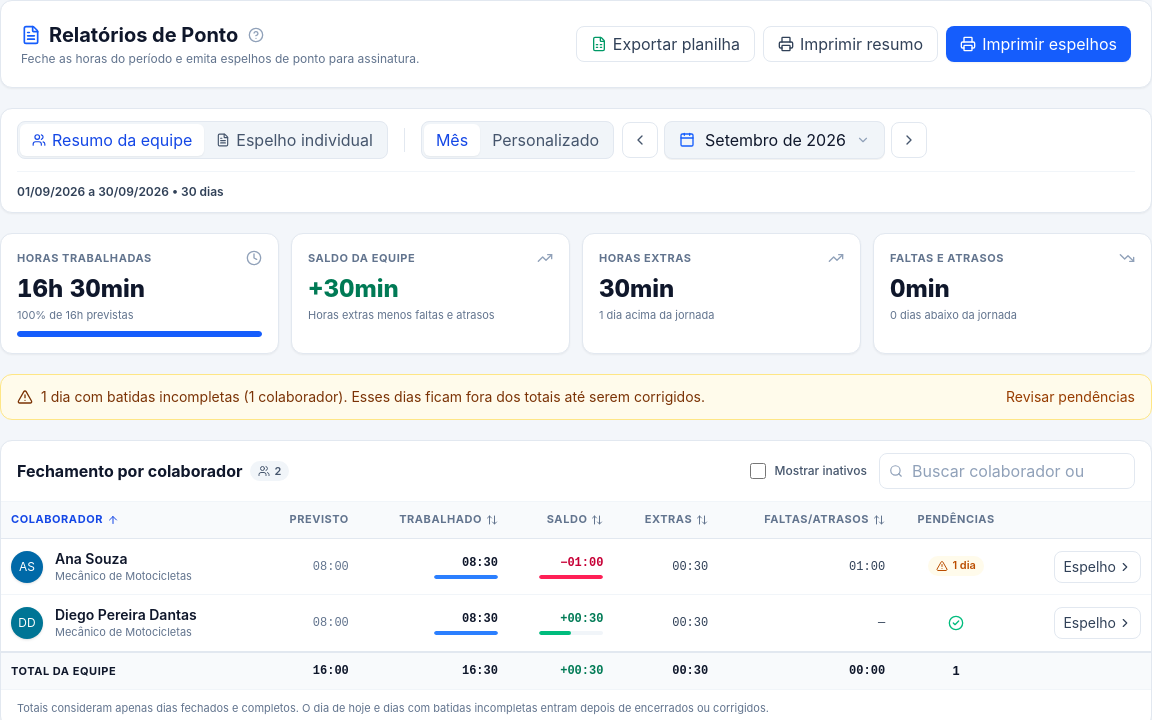
Test case: AdminReportsPage › filters the team table by search
Expected: the heading "Fechamento por colaborador" is shown, left=17, top=459, right=242, bottom=483
In the search field labelled "Buscar colaborador ou cargo...": {"x": 1007, "y": 471} left=879, top=453, right=1135, bottom=489, type "diego"
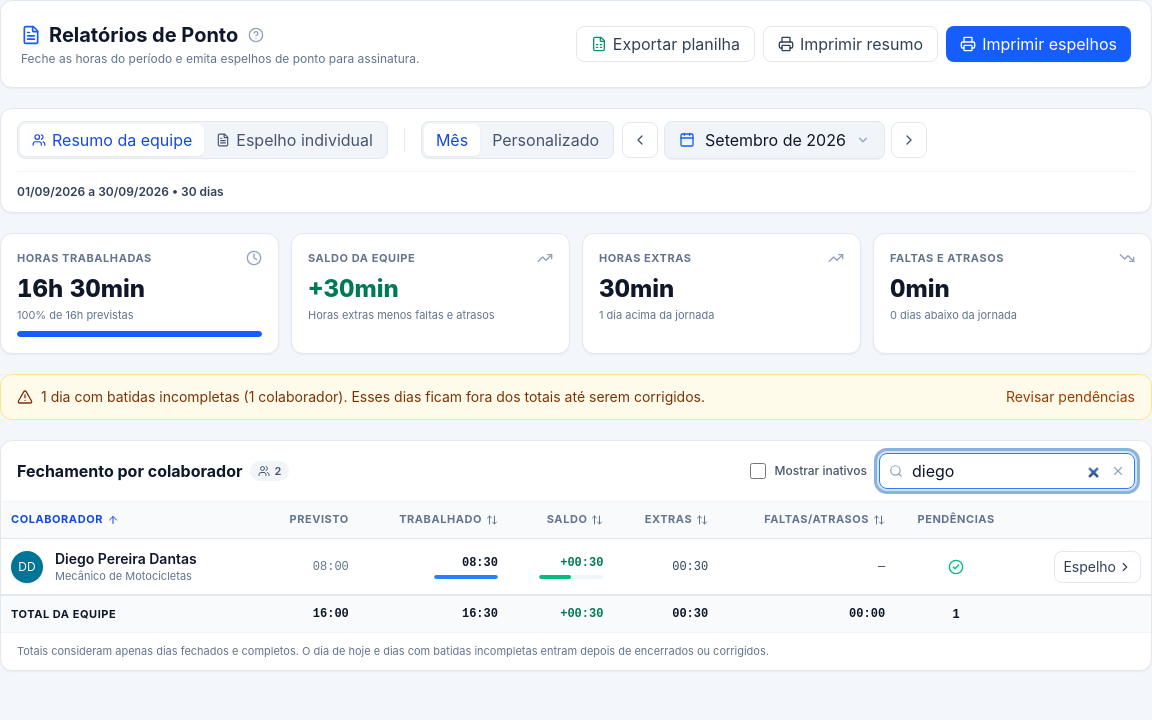
Expected: the text "Diego Pereira Dantas" is shown, left=55, top=549, right=197, bottom=569
Expected: the text "Ana Souza" is gone
